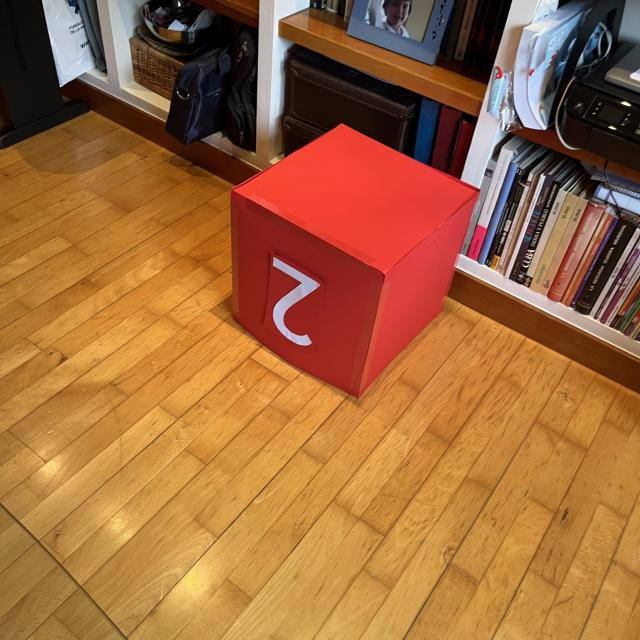box: (226, 121, 482, 399)
